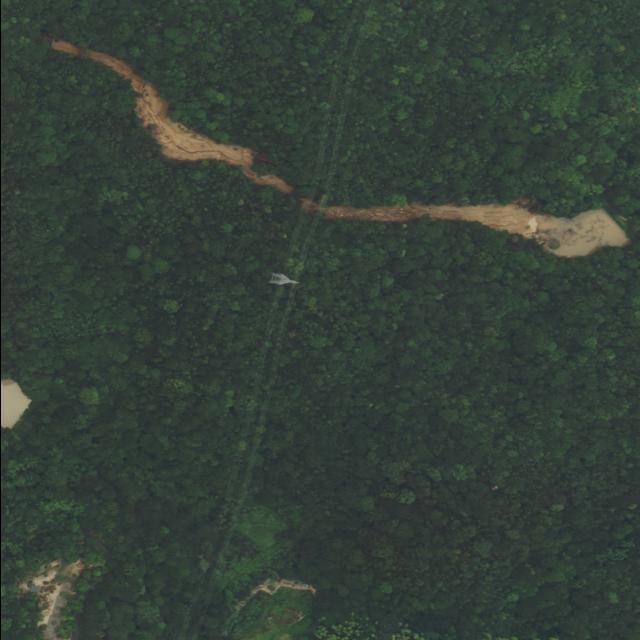landslide: (48, 40, 293, 193), (298, 198, 629, 257)
